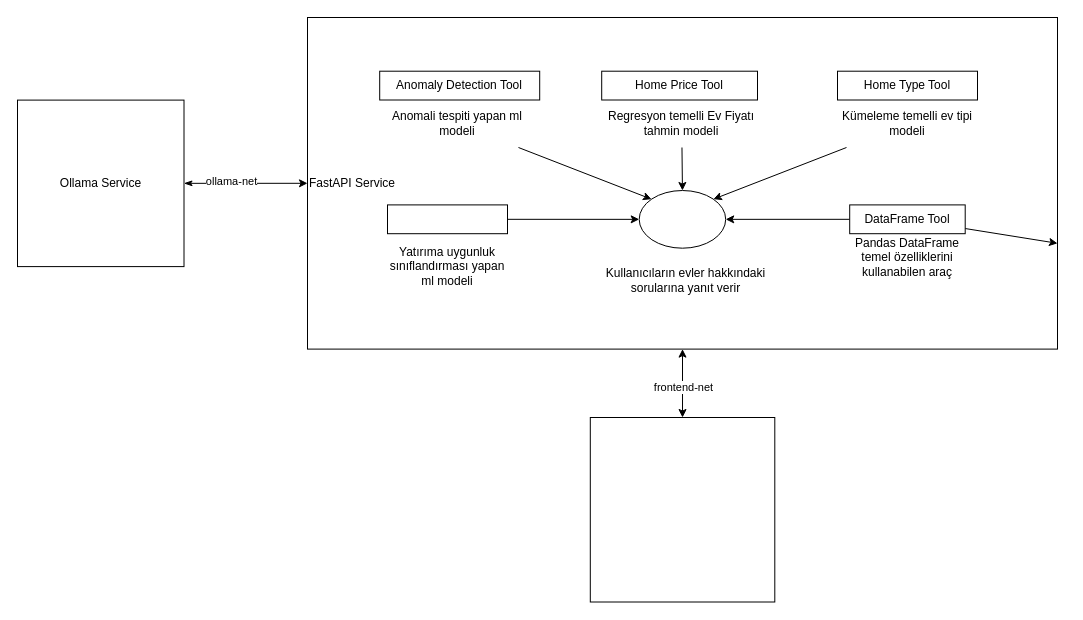
The diagram is 1083 pixels wide and 620 high, and some of its shapes have lost their labels. The centre of each missing label's shape, as x and y in pixels:
"Agent" goes at [682,219].
"Fronted Service (Streamlit App)" goes at [682,509].
"Investment Tool" goes at [447,219].
